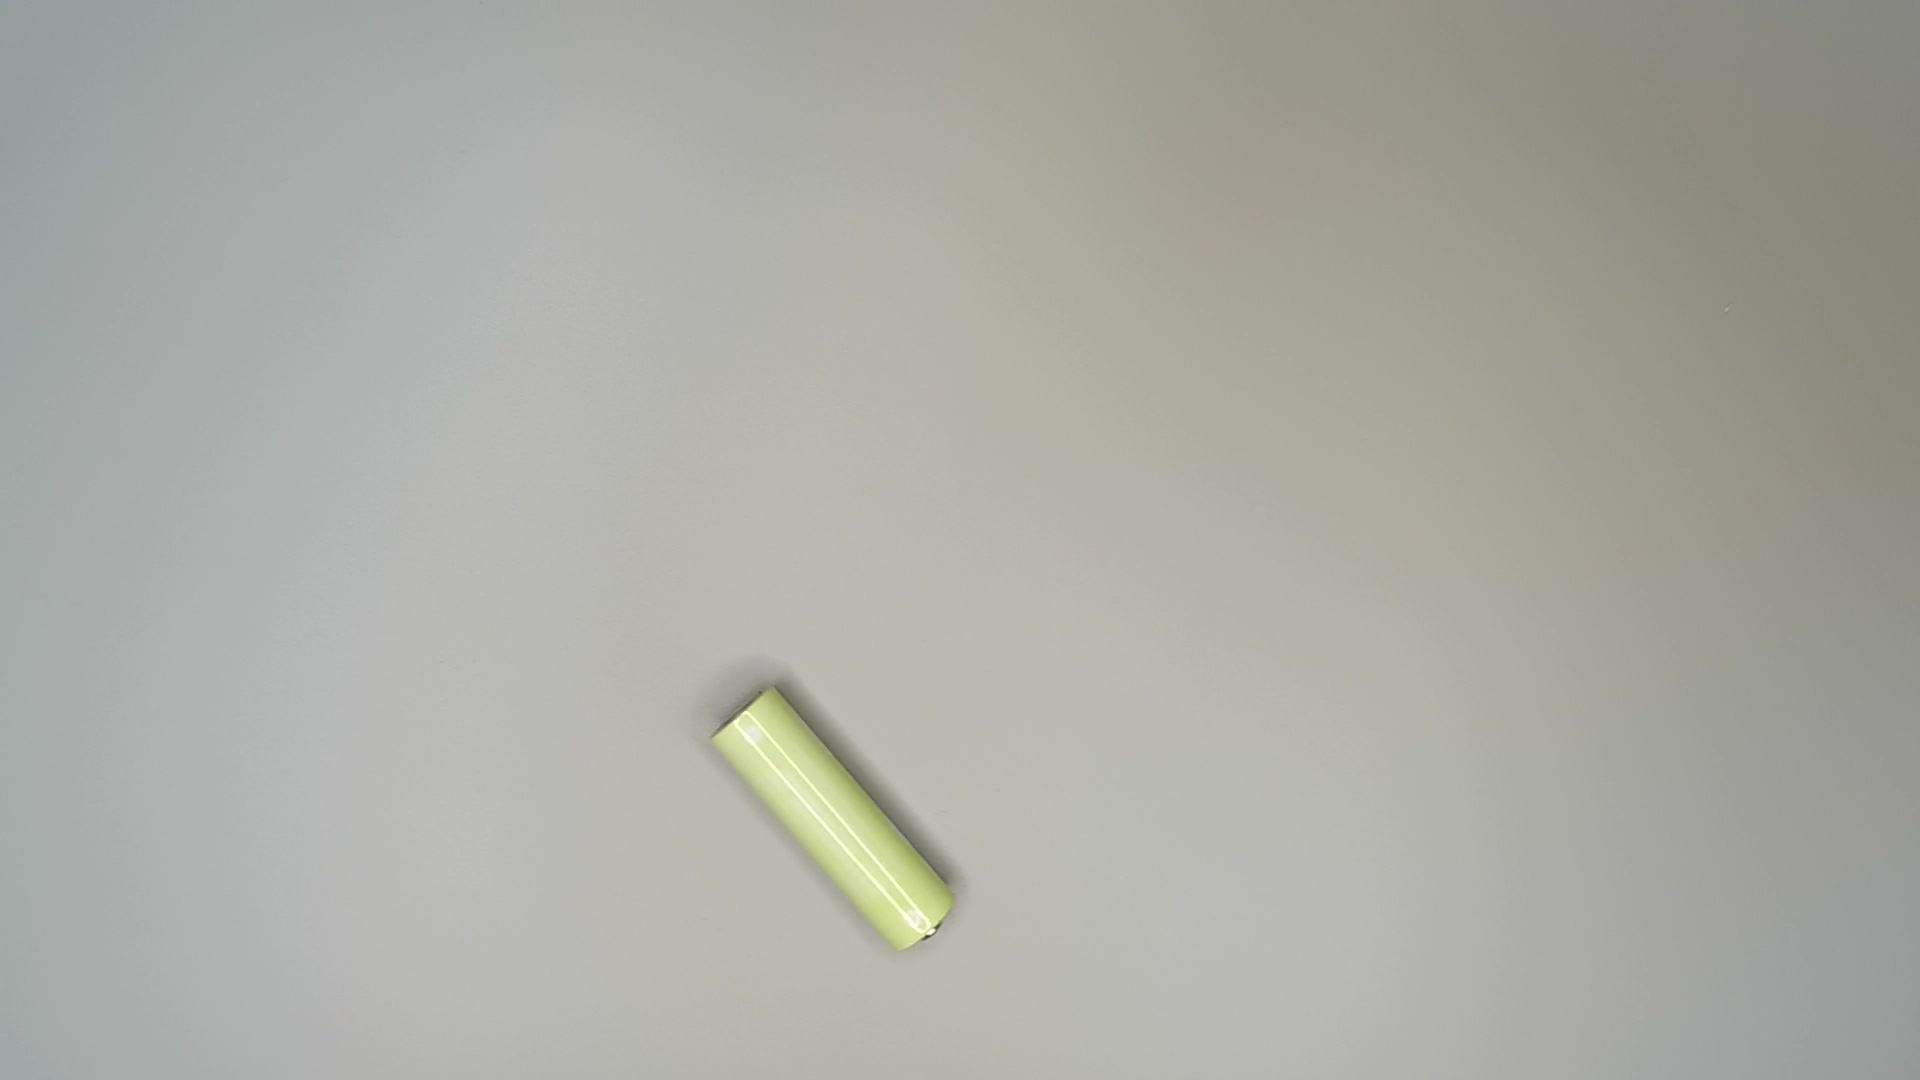battery: (703, 682, 967, 965)
